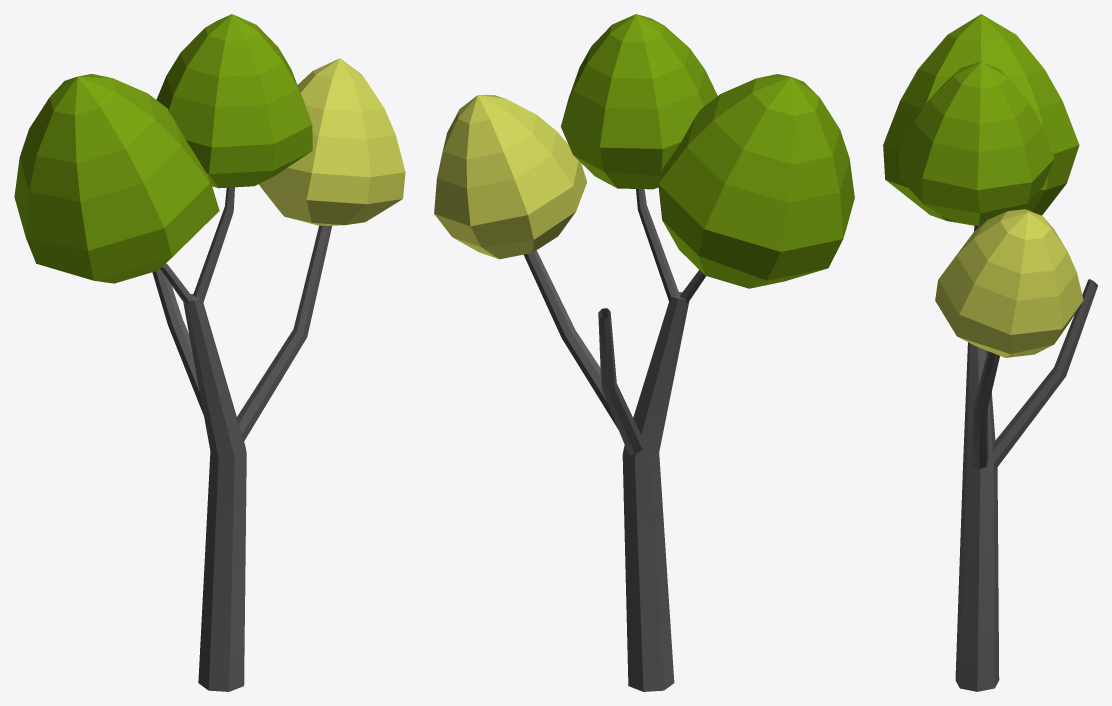
File: massstree2.fbx
The picture shows the model from 3 angles, left to right: view 1: azimuth 30°, elevation 25°; view 2: azimuth 150°, elevation 25°; view 3: azimuth 270°, elevation 25°; orthographic projection. The views are drawn at different scales.
Visible parts, largest first — view 1: pSphere5; view 2: pSphere5; view 3: pSphere5.
Part boxes in pixels (<box>): pSphere5: <box>14,14,405,691</box>; pSphere5: <box>434,14,854,691</box>; pSphere5: <box>883,14,1097,691</box>.
Size of the model in its own units: 12.34 by 20.3 by 6.31.
